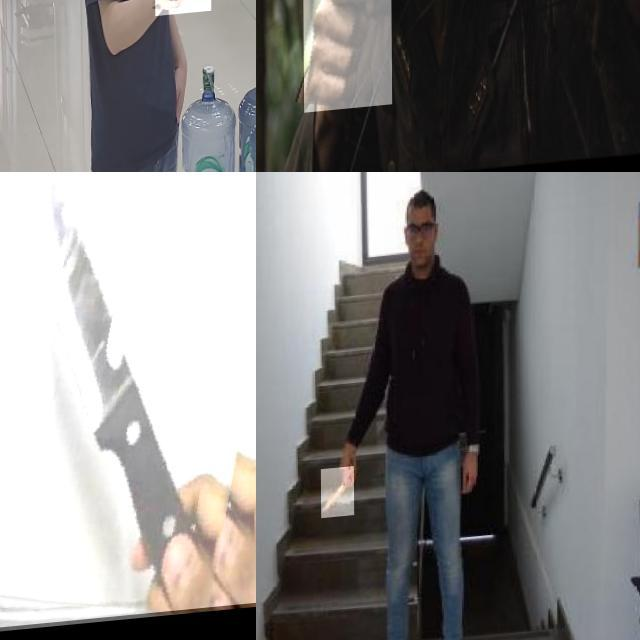-: (0, 172, 256, 634), (321, 470, 354, 522)
gun-knife-thesis - v11 Yolov5 augmented: (302, 0, 391, 116), (154, 0, 210, 45)
